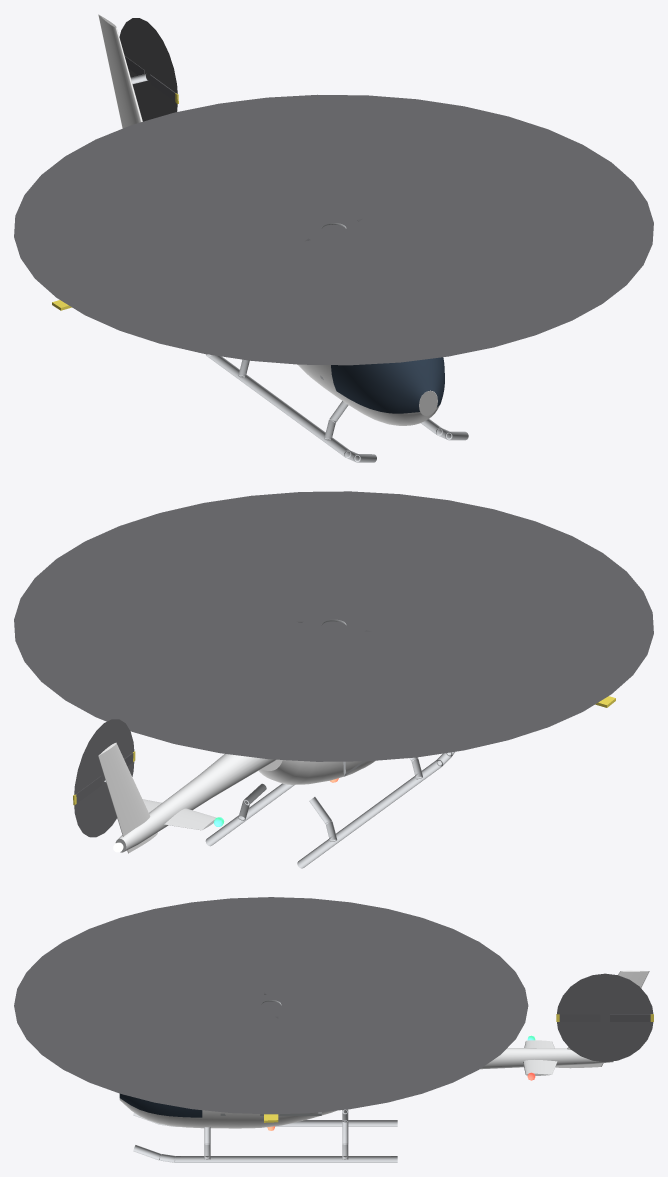
3 renders of one model, top to bottom at view 1: azimuth 30°, elevation 25°; view 2: azimuth 150°, elevation 25°; view 3: azimuth 270°, elevation 25°, orthographic. The views are drawn at different scales.
Visible parts, largest first — view 1: airframe; view 2: airframe; view 3: airframe, tail.
Part boxes in pixels (left/top/right/bottom): airframe: left=14, top=14, right=653, bottom=462; airframe: left=14, top=491, right=653, bottom=868; airframe: left=14, top=897, right=653, bottom=1162; tail: left=556, top=1014, right=653, bottom=1021.
Bounding box in the file's own units: 7.7 × 2.96 × 9.58.
